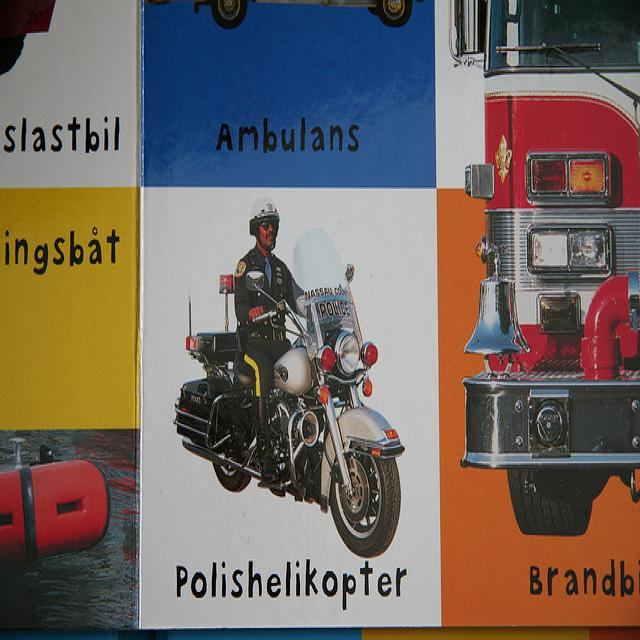motor: (175, 262, 405, 555)
